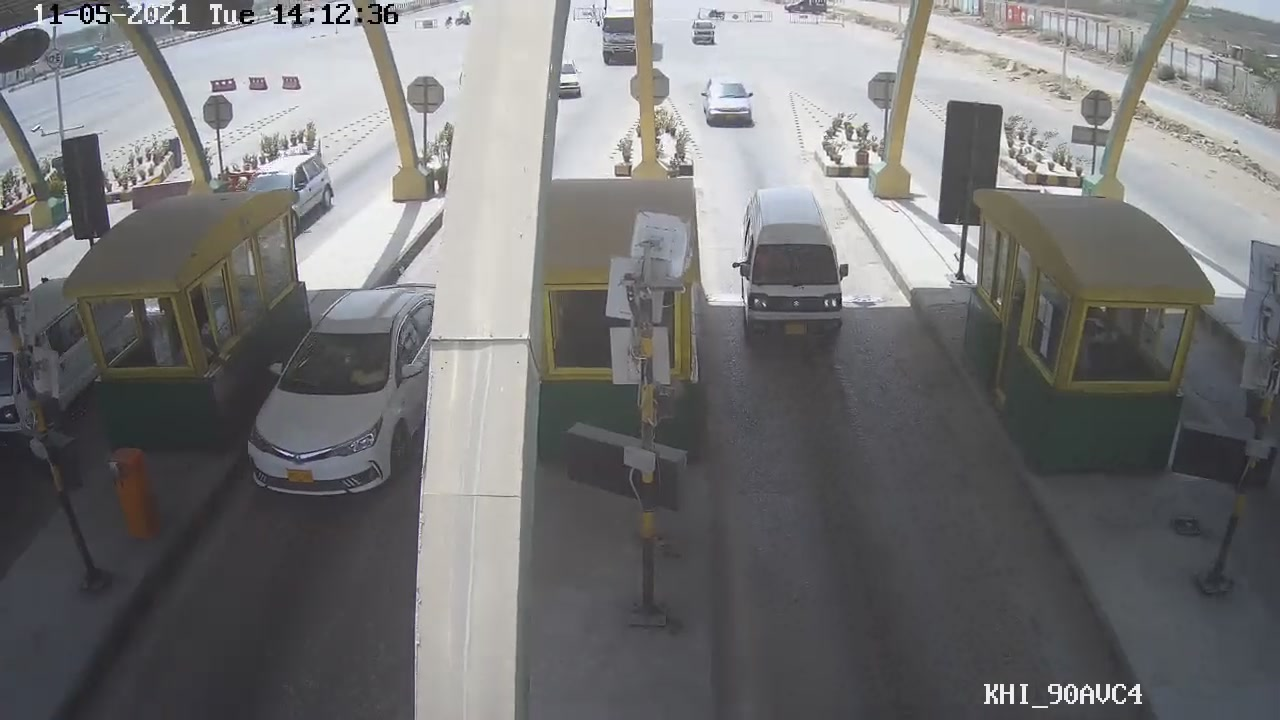F1: (719, 181, 851, 351)
